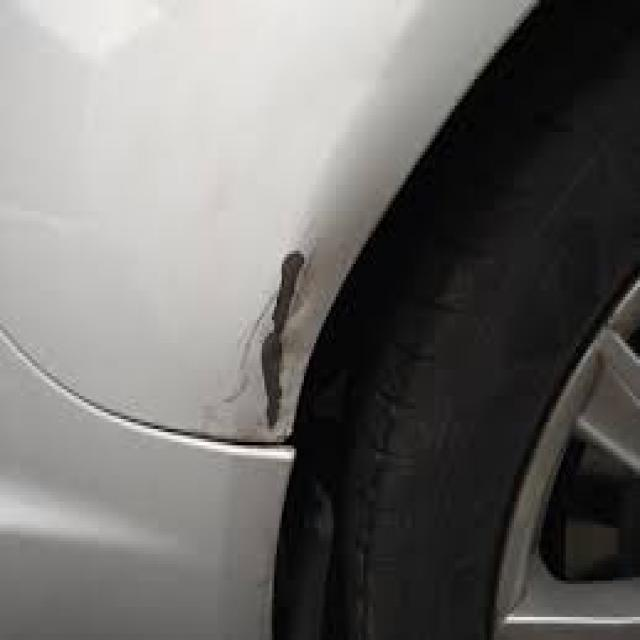dent-or-scratch: (244, 234, 319, 439)
